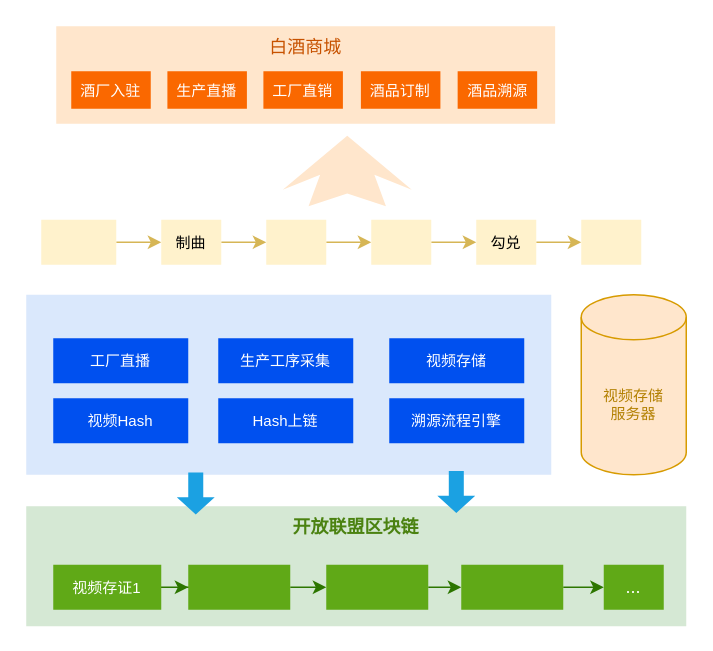
This 713x651 diagram has some shape labels left out. Here are the shapes that lost their labels. From the top down, the box of each, then its label:
(282, 135, 411, 206): 透明化
(40, 219, 116, 264): 原材料
(266, 219, 326, 264): 发酵
(370, 219, 430, 264): 蒸馏
(580, 219, 640, 264): 包装
(26, 294, 550, 474): 透明酒厂系统
(188, 564, 290, 609): 视频存证2
(326, 564, 428, 609): 视频存证3
(460, 564, 562, 609): 视频存证4
